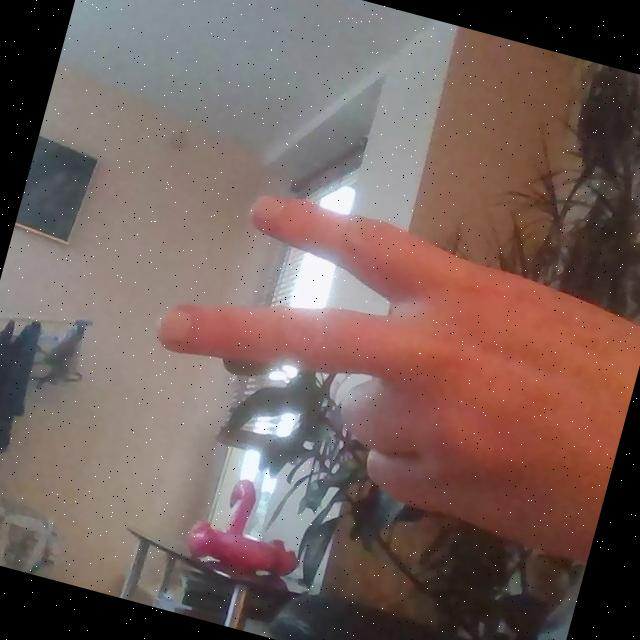scissors: (121, 168, 626, 553)
